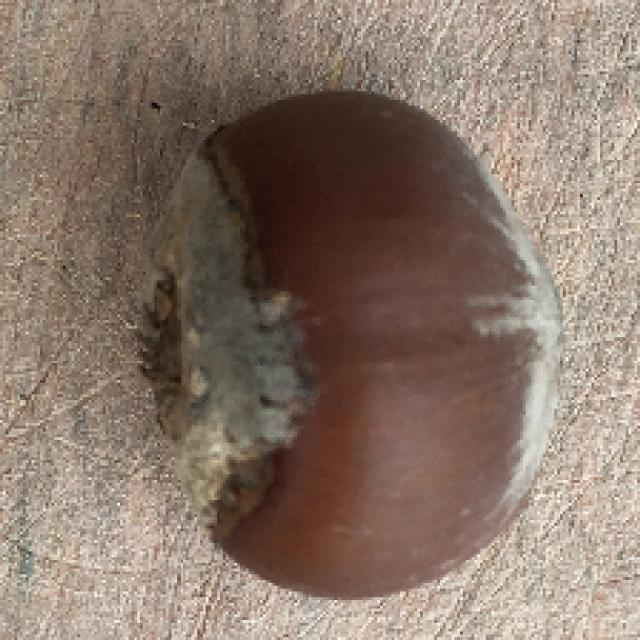damagedHazelnut: (123, 86, 565, 601)
